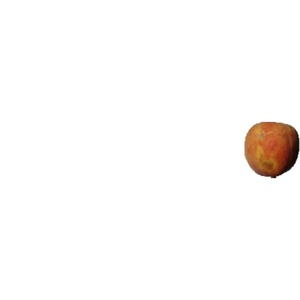pêssego: (245, 122, 300, 179)
